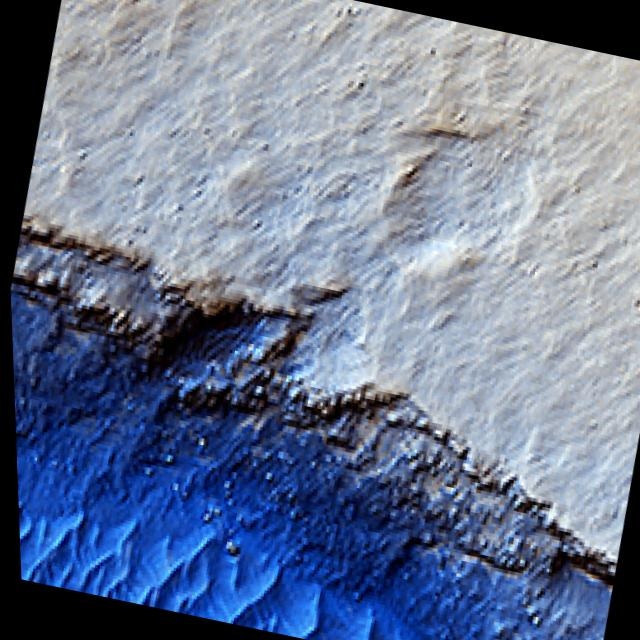Crater: (338, 78, 585, 334), (62, 0, 223, 23)
